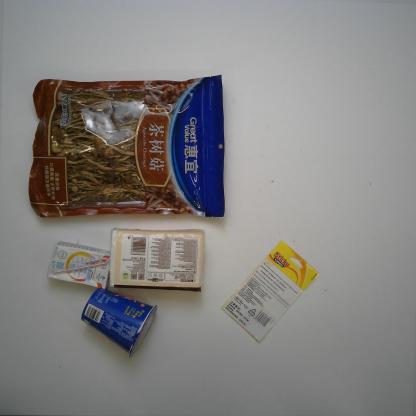Dessert: (78, 287, 159, 360)
Dried Food: (26, 71, 228, 222)
Milk: (44, 240, 113, 293)
Stationery: (217, 237, 320, 347)
Tissue: (110, 227, 207, 294)
